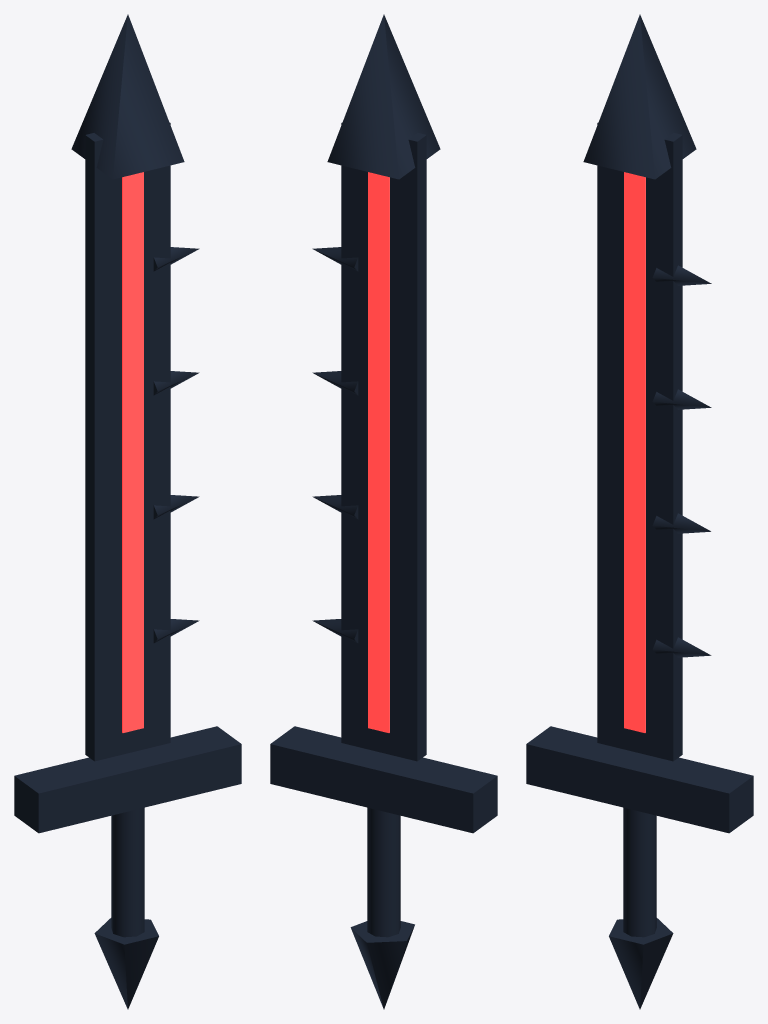
File: dk_weapon_sword_of_destruction.glb
3 renders of one model, left to right at view 1: azimuth 30°, elevation 25°; view 2: azimuth 150°, elevation 25°; view 3: azimuth 330°, elevation 25°, orthographic.
Visible parts, largest first — view 1: blade, guard, magma_core, blade_tip, grip, pommel; view 2: blade, guard, magma_core, blade_tip, grip, pommel; view 3: blade, guard, magma_core, blade_tip, grip, pommel, serration_0, serration_1, serration_2, serration_3.
Part boxes in pixels (x1,y1,x2,y2): blade: [85, 122, 170, 761]; guard: [14, 726, 241, 833]; magma_core: [122, 172, 143, 732]; blade_tip: [71, 14, 184, 179]; grip: [111, 807, 144, 937]; pommel: [94, 918, 158, 1009]; blade: [341, 122, 426, 761]; guard: [270, 726, 497, 833]; magma_core: [368, 172, 389, 732]; blade_tip: [327, 14, 440, 179]; grip: [367, 807, 400, 937]; pommel: [350, 921, 414, 1009]; blade: [597, 122, 682, 761]; guard: [526, 726, 753, 833]; magma_core: [624, 172, 645, 732]; blade_tip: [583, 14, 696, 179]; grip: [623, 807, 656, 937]; pommel: [609, 918, 673, 1009]; serration_0: [652, 637, 711, 657]; serration_1: [652, 513, 710, 533]; serration_2: [652, 389, 711, 409]; serration_3: [652, 265, 711, 285].
Size of the model in its own units: 0.48 by 2.25 by 0.1697.
